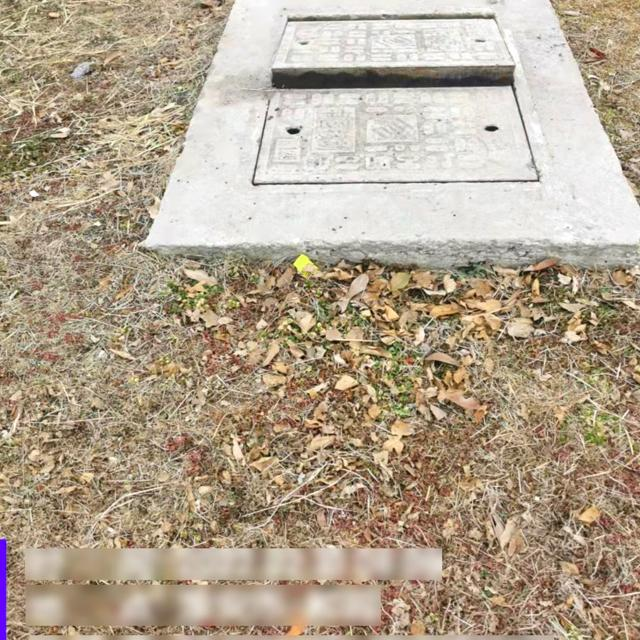uncovered: (237, 9, 548, 193)
